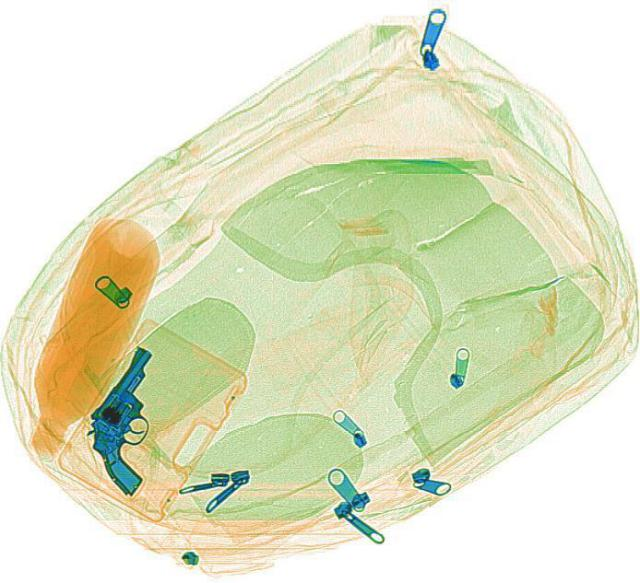Gun: (56, 345, 212, 496)
